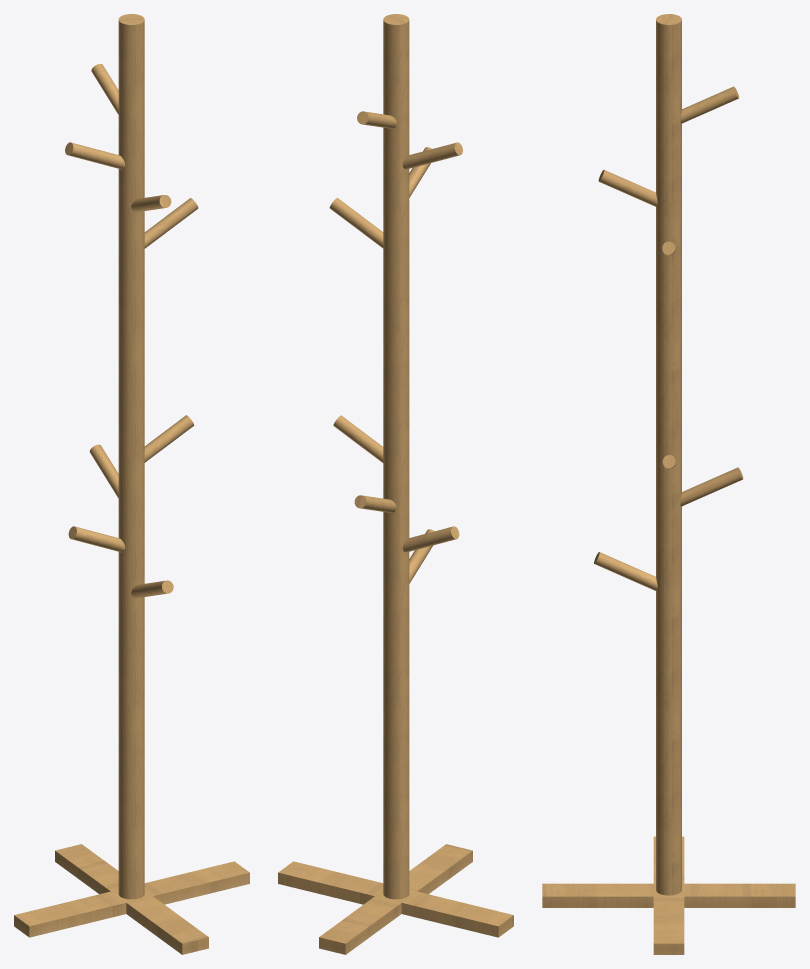
The model's file is simple_modern_coat_rack.glb.
3 renders of one model, left to right at view 1: azimuth 30°, elevation 25°; view 2: azimuth 150°, elevation 25°; view 3: azimuth 270°, elevation 25°, orthographic.
Visible parts, largest first — view 1: cloth rack.001; view 2: cloth rack.001; view 3: cloth rack.001.
Part boxes in pixels (box(x1,y1,x2,y2)): cloth rack.001: box(14, 14, 249, 954); cloth rack.001: box(278, 14, 513, 954); cloth rack.001: box(542, 14, 795, 954).
Bounding box in the file's own units: 0.4141 × 1.59 × 0.4141.
1 material, 1 textured.
